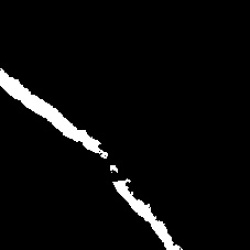crack: (0, 68, 180, 247)
